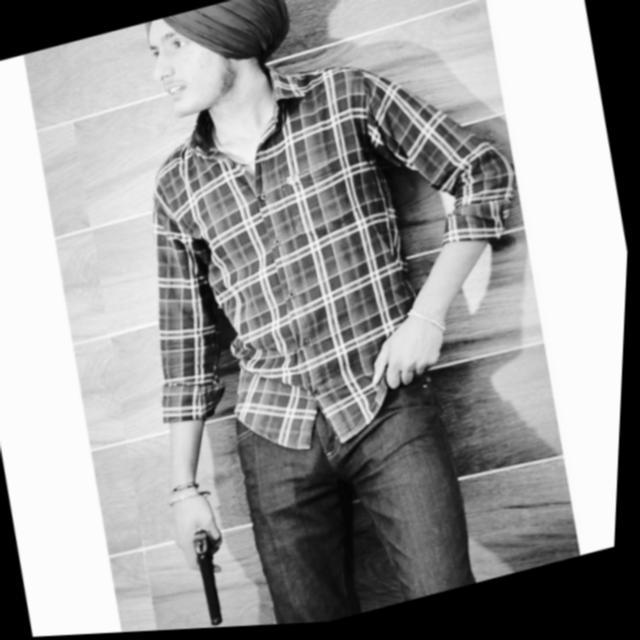weapon: (184, 517, 252, 632)
